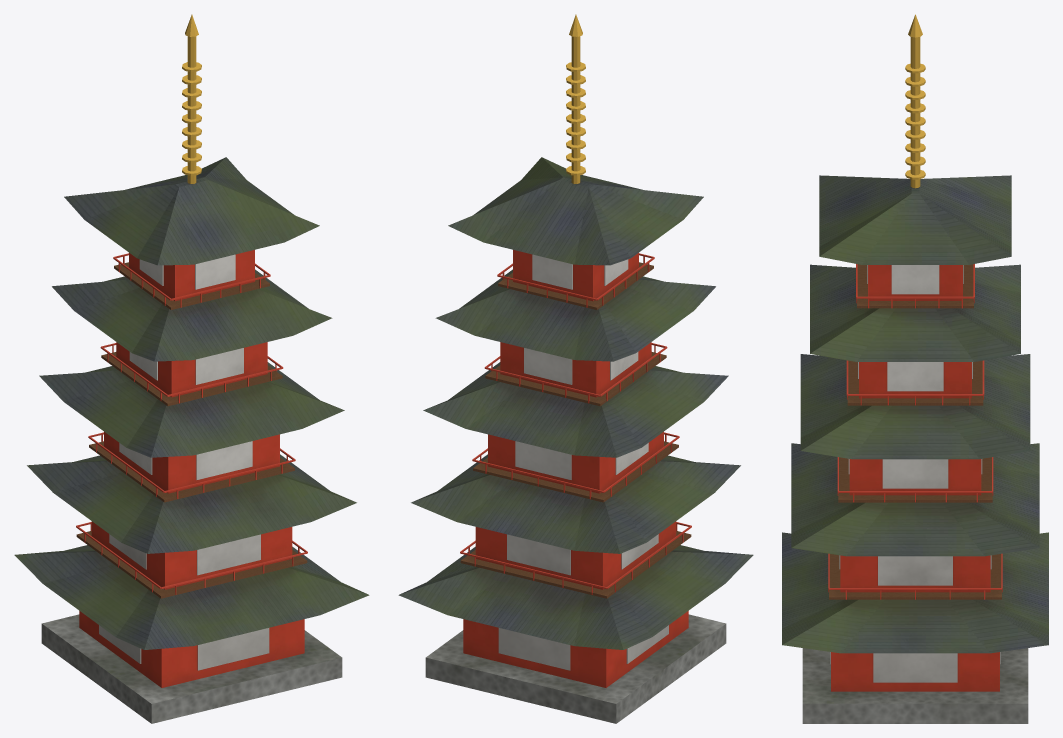
File: pagod5_tex.glb
3 views of the same model, side by side, from view 1: azimuth 30°, elevation 25°; view 2: azimuth 150°, elevation 25°; view 3: azimuth 270°, elevation 25° (orthographic). The views are drawn at different scales.
Visible parts, largest first — view 1: pagod5; view 2: pagod5; view 3: pagod5.
Boxes of the visible parts, x1=… form: pagod5: x1=14, y1=14, x2=369, y2=723; pagod5: x1=398, y1=14, x2=753, y2=723; pagod5: x1=782, y1=14, x2=1048, y2=723.
Bounding box in the file's own units: 14.2 × 38.9 × 14.2.
Materials: 6 (5 with a texture image).
